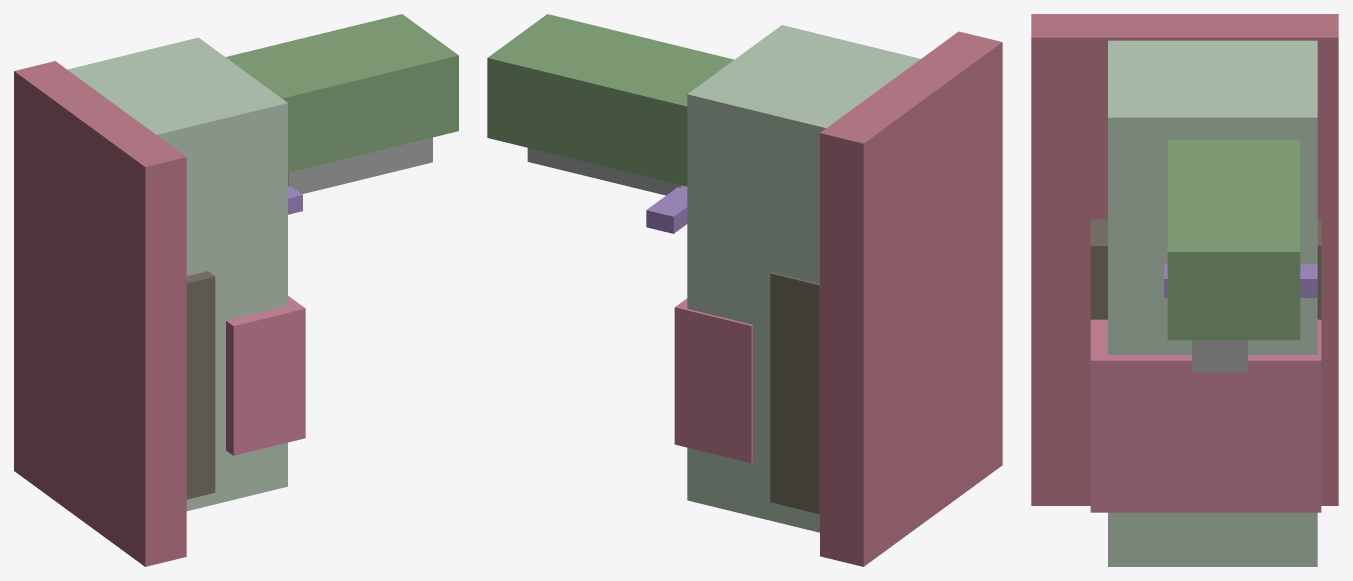
3 renders of one model, left to right at view 1: azimuth 30°, elevation 25°; view 2: azimuth 150°, elevation 25°; view 3: azimuth 270°, elevation 25°, orthographic. The views are drawn at different scales.
Visible parts, largest first — view 1: world; view 2: world; view 3: world.
Part boxes in pixels (left/top/right/bottom): world: left=14, top=14, right=458, bottom=566; world: left=487, top=14, right=1002, bottom=566; world: left=1031, top=14, right=1338, bottom=566.
Size of the model in its own units: 7.2 by 7.4 by 4.4.
